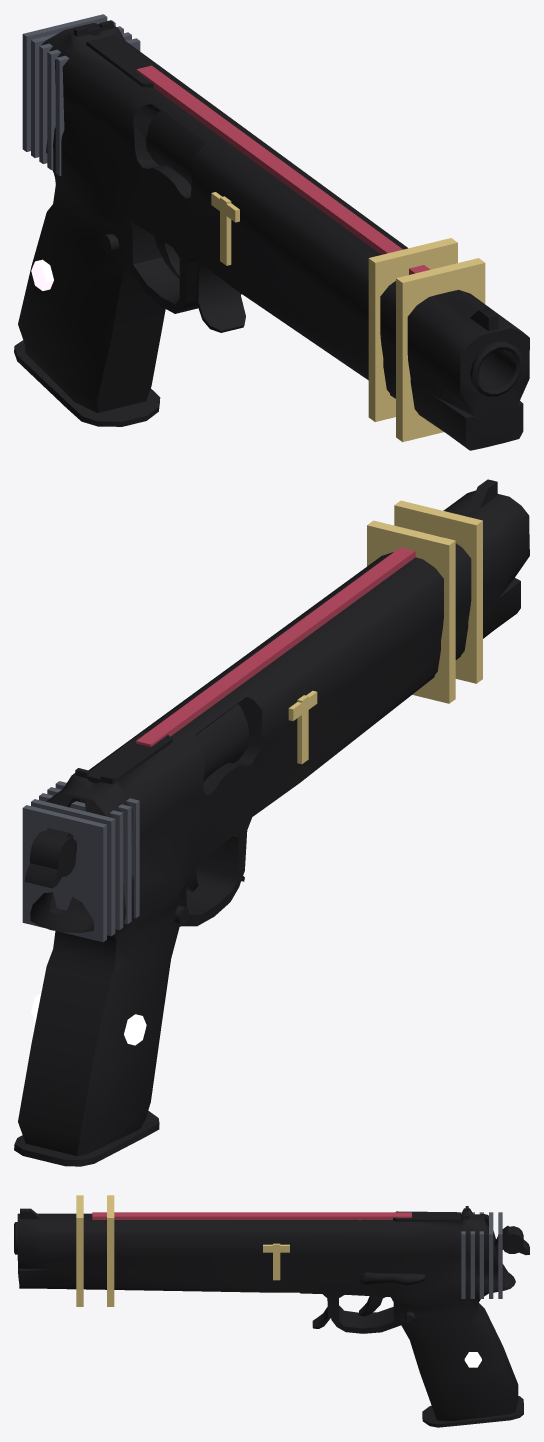
File: Casull.fbx
3 renders of one model, top to bottom at view 1: azimuth 30°, elevation 25°; view 2: azimuth 150°, elevation 25°; view 3: azimuth 270°, elevation 25°, orthographic. The views are drawn at different scales.
Parts seen in each view (by area): view 1: Slide, Body; view 2: Slide, Body, Hammer; view 3: Slide, Body, Hammer, Trigger.
Boxes of the visible parts, <box> form: Slide: <box>22,14,529,450</box>; Body: <box>14,161,245,426</box>; Slide: <box>22,479,529,942</box>; Body: <box>14,818,251,1166</box>; Hammer: <box>24,827,76,888</box>; Slide: <box>14,1195,504,1306</box>; Body: <box>300,1248,523,1427</box>; Hammer: <box>494,1226,529,1255</box>; Trigger: <box>359,1296,385,1316</box>.
Bounding box in the file's own units: 0.053 × 0.1897 × 0.4197.
